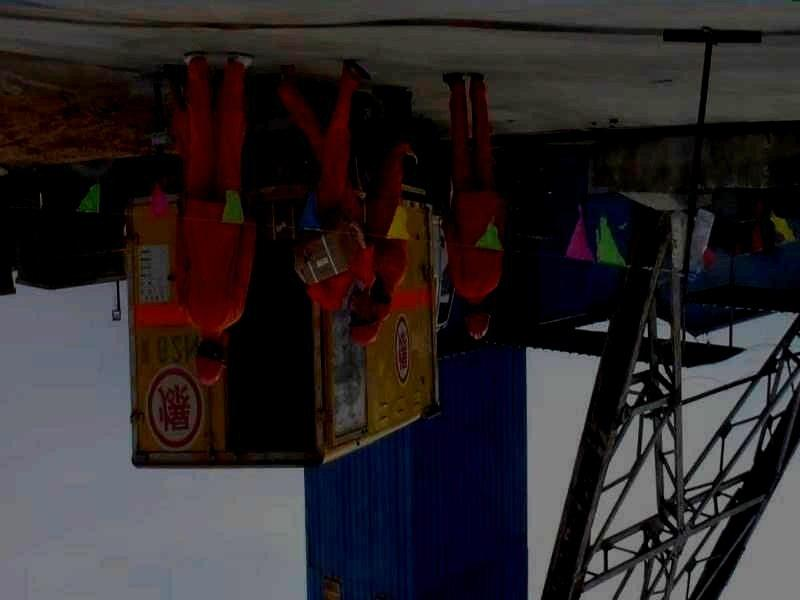helmet: (192, 334, 229, 385), (347, 304, 382, 347), (467, 300, 492, 340)
